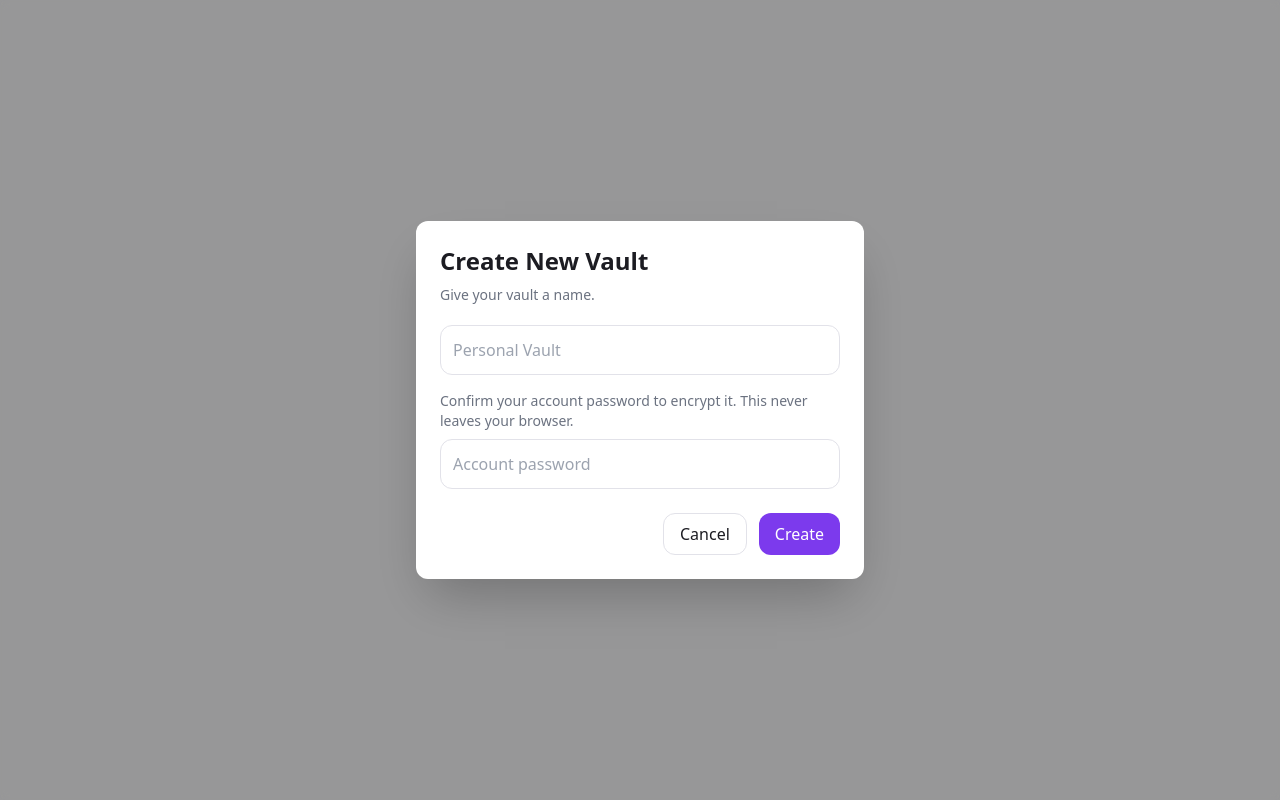
Scenario: CreateVaultDialog › when recovery-key enrollment fails › keeps the dialog open (does not close or report completion) and retains the generated recovery envelope
Type "My Vault" into the field with placeholder "Personal Vault".
click(640, 350); type("My Vault")  # box [440, 325, 840, 375]
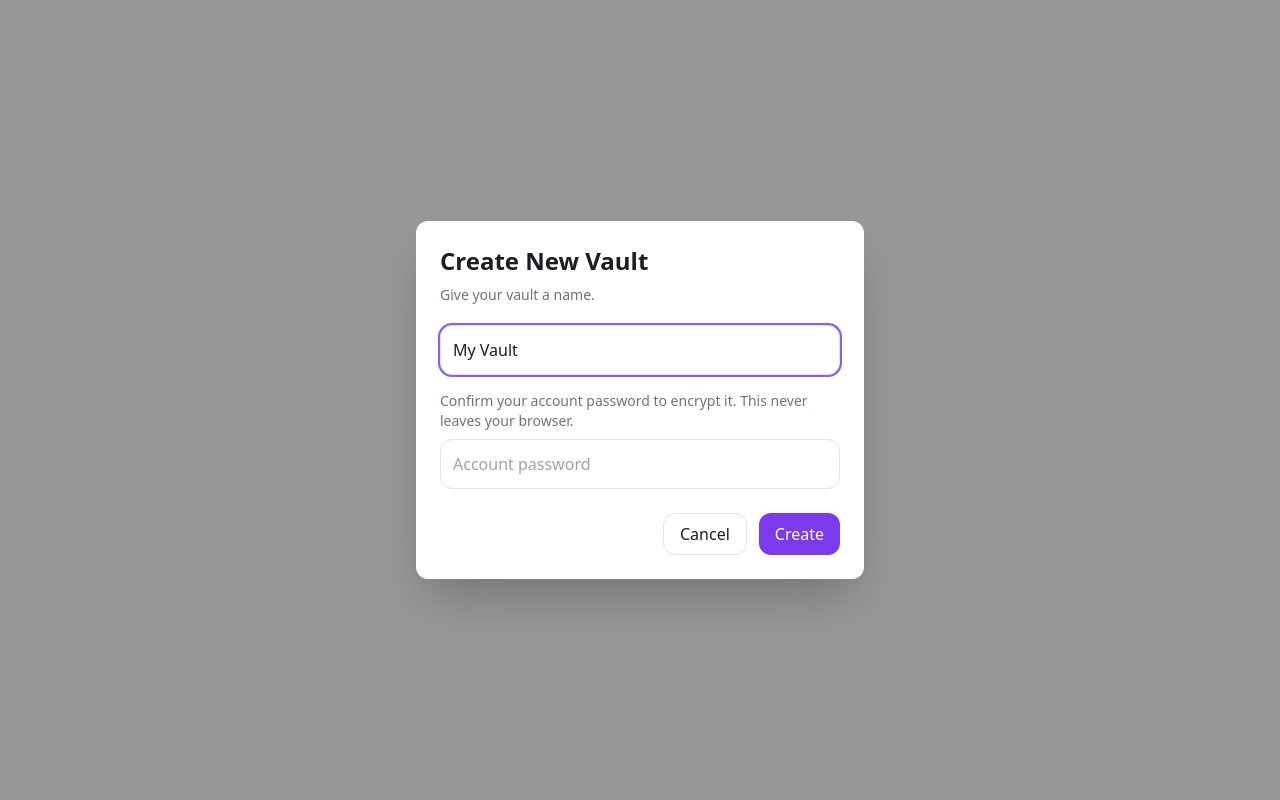
Type "correct-horse-battery-staple" into the password field with placeholder "Account password".
click(640, 464); type("correct-horse-battery-staple")  # box [440, 439, 840, 489]
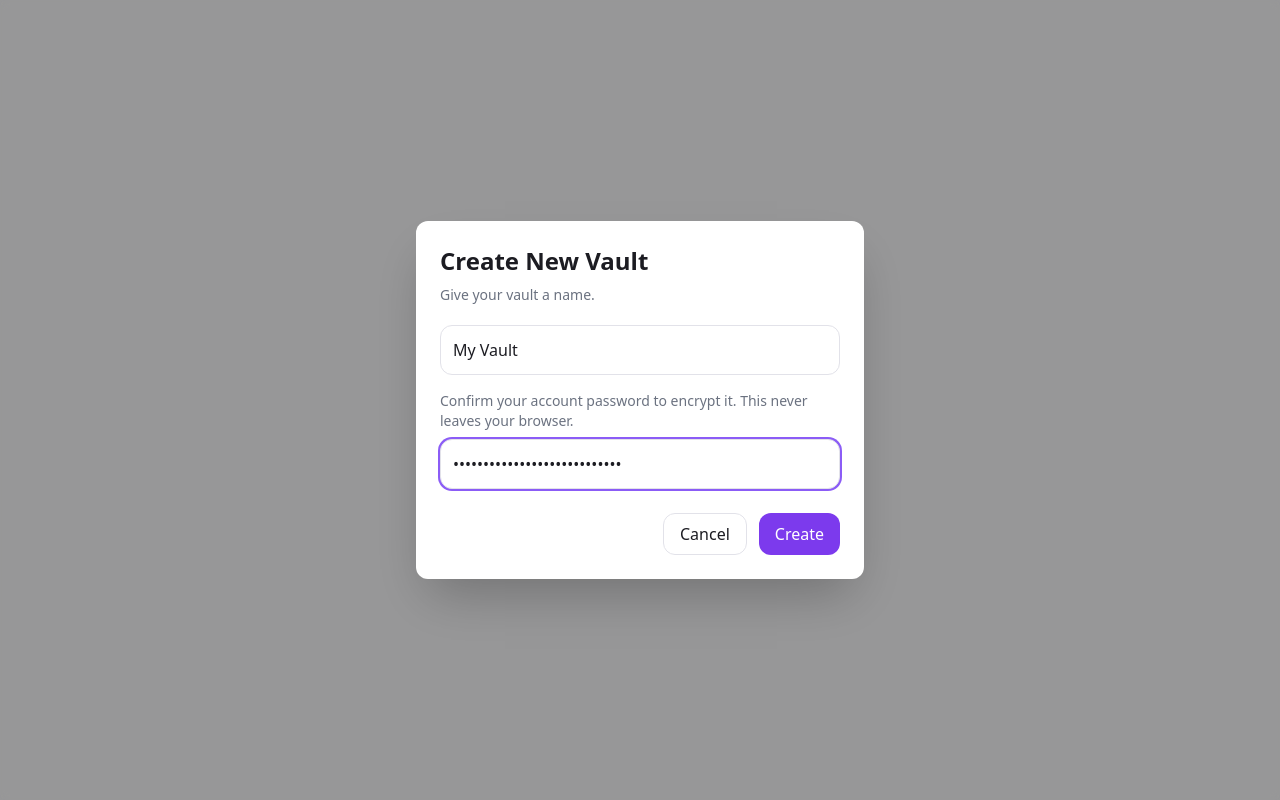
Click the button "Create".
click(799, 534)  # box [759, 513, 840, 555]
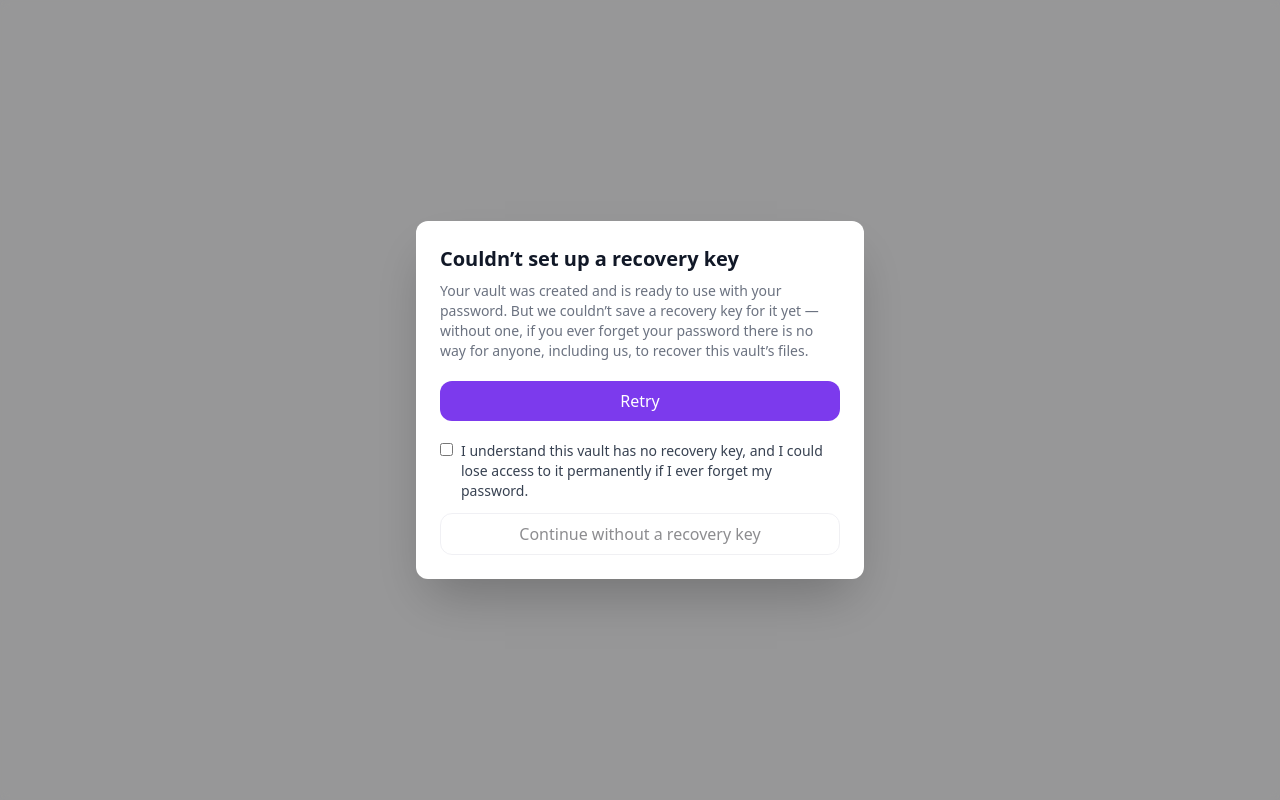
Now the heading "Couldn’t set up a recovery key" is shown, box [440, 245, 739, 272]
